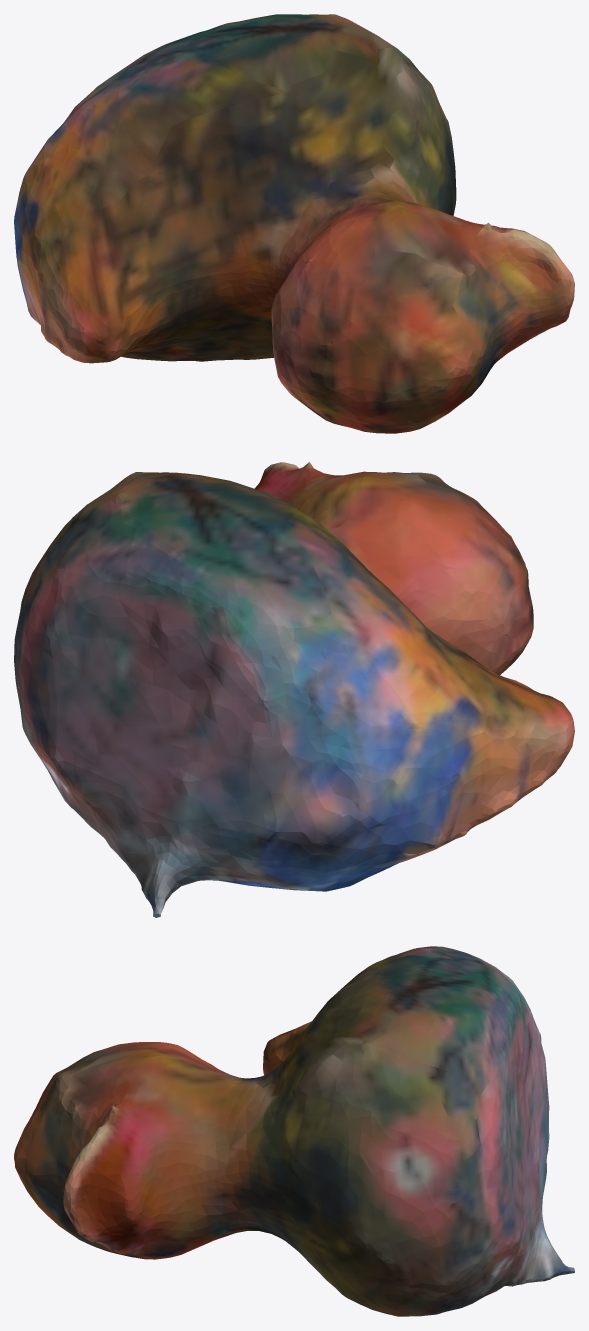
Rendered from duck_adjusted.obj.
3 views of the same model, one above another, from view 1: azimuth 30°, elevation 25°; view 2: azimuth 150°, elevation 25°; view 3: azimuth 270°, elevation 25° (orthographic). The views are drawn at different scales.
Bounding box in the file's own units: 0.0875 × 0.0628 × 0.1012.
Materials: 1 (1 with a texture image).
